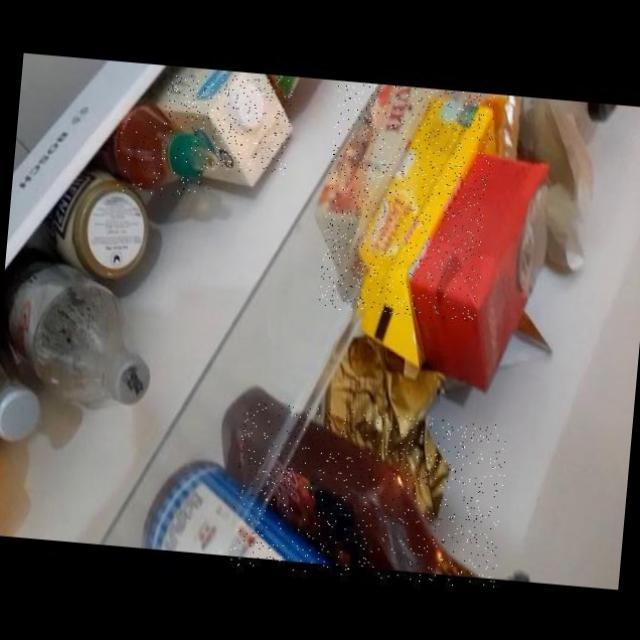Mantequilla: (316, 80, 495, 321)
milk: (159, 69, 293, 176)
sauce: (227, 402, 508, 590), (112, 117, 214, 199)
